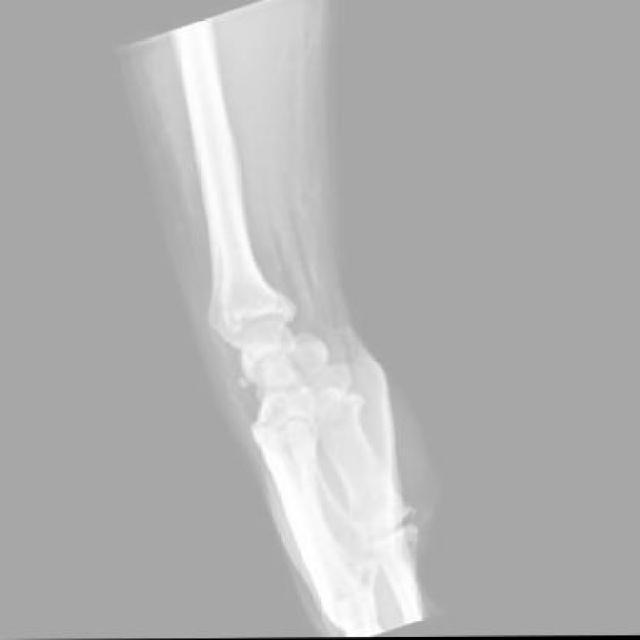Fracture: (228, 354, 270, 396)
